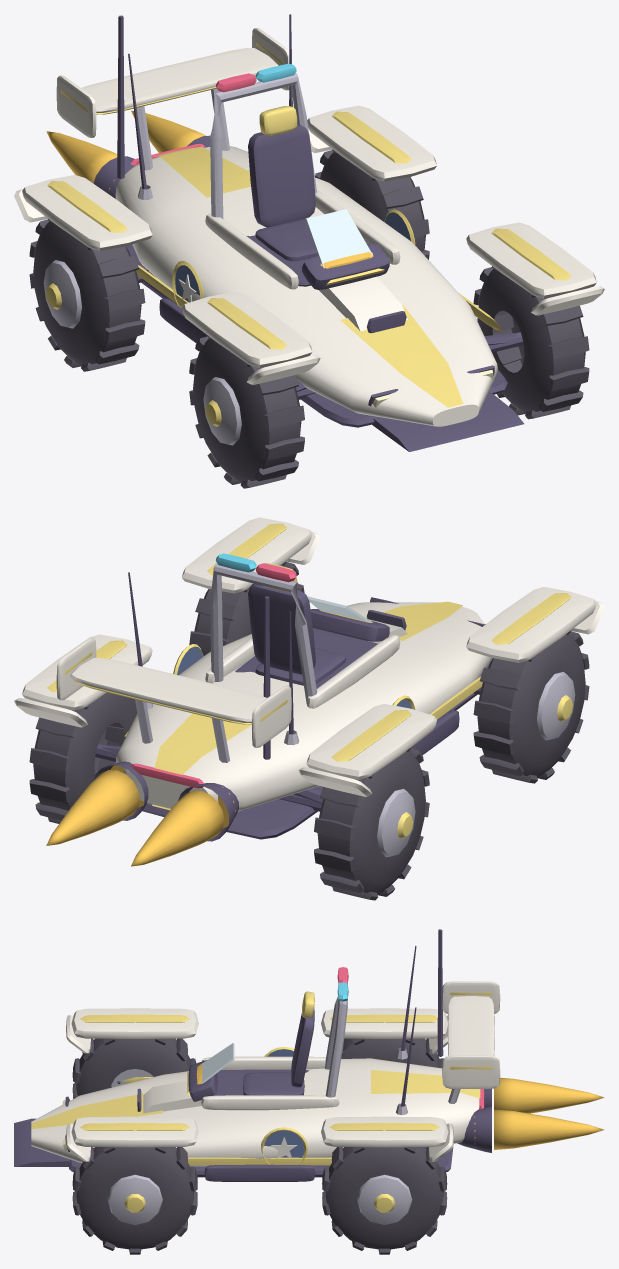
File: interceptor.glb
3 renders of one model, top to bottom at view 1: azimuth 30°, elevation 25°; view 2: azimuth 150°, elevation 25°; view 3: azimuth 270°, elevation 25°, orthographic. The views are drawn at different scales.
Visible parts, largest first — view 1: hull, tyre2, tyre1, tyre0, spine, seatBack, wing, fender-1_-1, fender1_-1, fender-1_1, fender1_1, splitter (+33 smaller); view 2: hull, tyre0, tyre2, wing, tyre3, fender-1_1, fender-1_-1, spine, seatBack, fender1_1, plume1_flame, plume-1_flame (+39 smaller); view 3: hull, tyre3, tyre1, tyre0, spine, fender-1_1, fender1_1, fender1_-1, wing, plume1_flame, plume-1_flame, fender-1_-1 (+26 smaller).
Boxes of the visible parts, x1,y1,x2,y2 form: hull: [115, 146, 497, 426]; tyre2: [33, 221, 141, 364]; tyre1: [477, 269, 585, 412]; tyre0: [193, 338, 301, 481]; spine: [154, 146, 463, 407]; seatBack: [248, 124, 315, 227]; wing: [81, 48, 278, 112]; fender-1_-1: [22, 175, 152, 250]; fender1_-1: [307, 105, 436, 181]; fender-1_1: [182, 292, 312, 367]; fender1_1: [466, 222, 596, 298]; splitter: [372, 391, 524, 451]; hull: [115, 602, 492, 811]; tyre0: [477, 633, 585, 776]; tyre2: [317, 750, 425, 893]; wing: [69, 658, 266, 723]; tyre3: [33, 692, 137, 810]; fender-1_1: [466, 587, 596, 662]; fender-1_-1: [306, 703, 436, 779]; spine: [152, 601, 462, 810]; seatBack: [248, 583, 315, 674]; fender1_1: [182, 517, 312, 593]; plume1_flame: [46, 770, 139, 845]; plume-1_flame: [131, 790, 224, 866]; hull: [31, 1058, 479, 1166]; tyre3: [325, 1147, 443, 1249]; tyre1: [76, 1147, 193, 1249]; tyre0: [76, 1038, 190, 1095]; spine: [31, 1070, 480, 1128]; fender-1_1: [71, 1008, 198, 1038]; fender1_1: [71, 1116, 198, 1147]; fender1_-1: [321, 1116, 448, 1147]; wing: [447, 996, 494, 1056]; plume1_flame: [494, 1109, 604, 1149]; plume-1_flame: [494, 1077, 604, 1113]; fender-1_-1: [321, 1008, 447, 1038].
Size of the model in its own units: 4.66 by 3.76 by 8.53.
